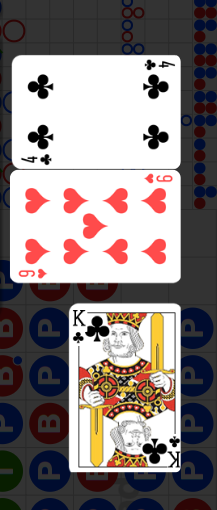4C: (143, 58, 177, 73)
9H: (18, 267, 49, 279)
KC: (166, 432, 181, 467)
